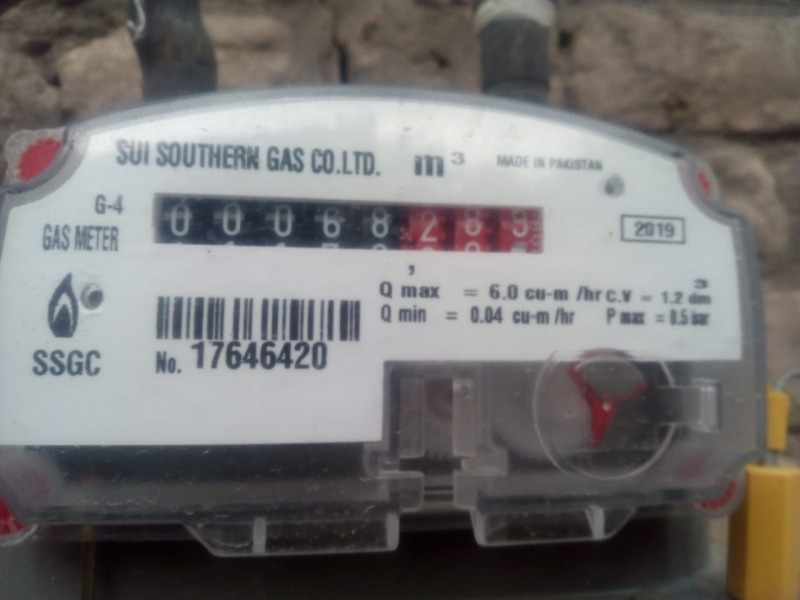ssgc: (145, 189, 548, 260)
